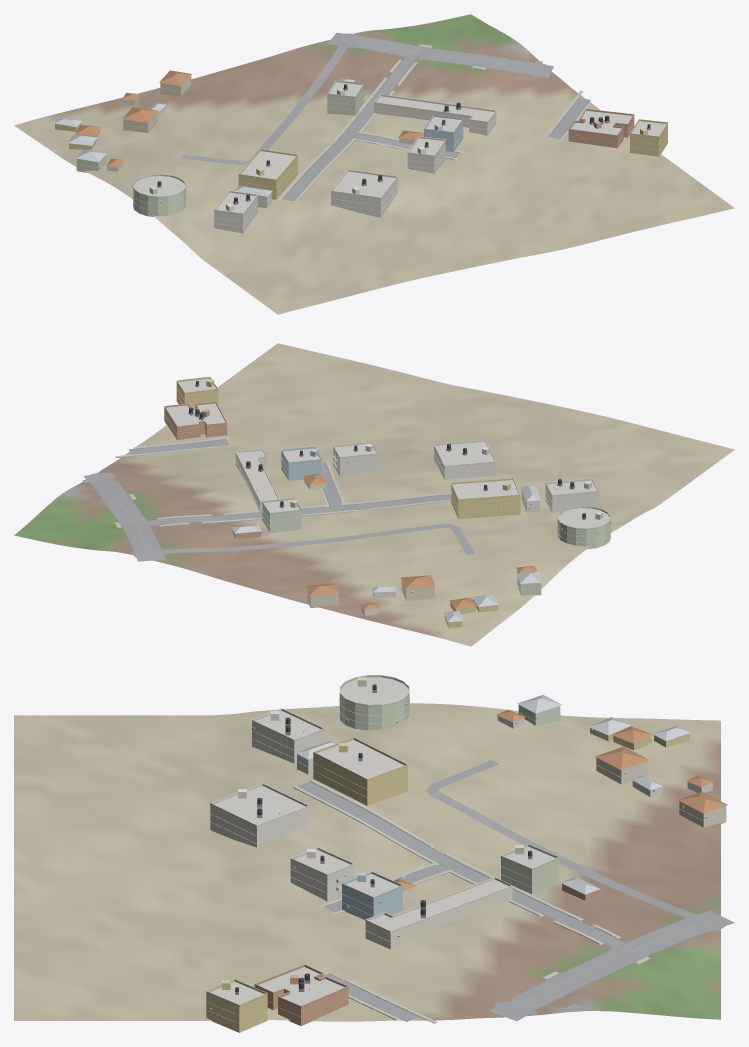
3 renders of one model, top to bottom at view 1: azimuth 30°, elevation 25°; view 2: azimuth 150°, elevation 25°; view 3: azimuth 270°, elevation 25°, orthographic. The views are drawn at different scales.
Visible parts, largest first — view 1: Terrain-col, Buildings-col, Roads-col, Details, Sidewalks-col; view 2: Terrain-col, Buildings-col, Roads-col, Details, Sidewalks-col; view 3: Terrain-col, Buildings-col, Roads-col, Details, Sidewalks-col.
Boxes of the visible parts, x1,y1,x2,y2 form: Terrain-col: [14, 14, 734, 314]; Buildings-col: [54, 70, 667, 233]; Roads-col: [181, 33, 590, 200]; Details: [76, 80, 667, 227]; Sidewalks-col: [278, 44, 591, 202]; Terrain-col: [14, 343, 734, 646]; Buildings-col: [164, 378, 610, 627]; Roads-col: [70, 439, 475, 561]; Details: [164, 376, 610, 601]; Sidewalks-col: [114, 437, 451, 527]; Terrain-col: [14, 703, 720, 1021]; Buildings-col: [206, 677, 727, 1032]; Roads-col: [297, 760, 734, 1021]; Details: [206, 675, 726, 1024]; Sidewalks-col: [291, 779, 650, 1023].
Size of the model in its own units: 270 by 19.64 by 261.
